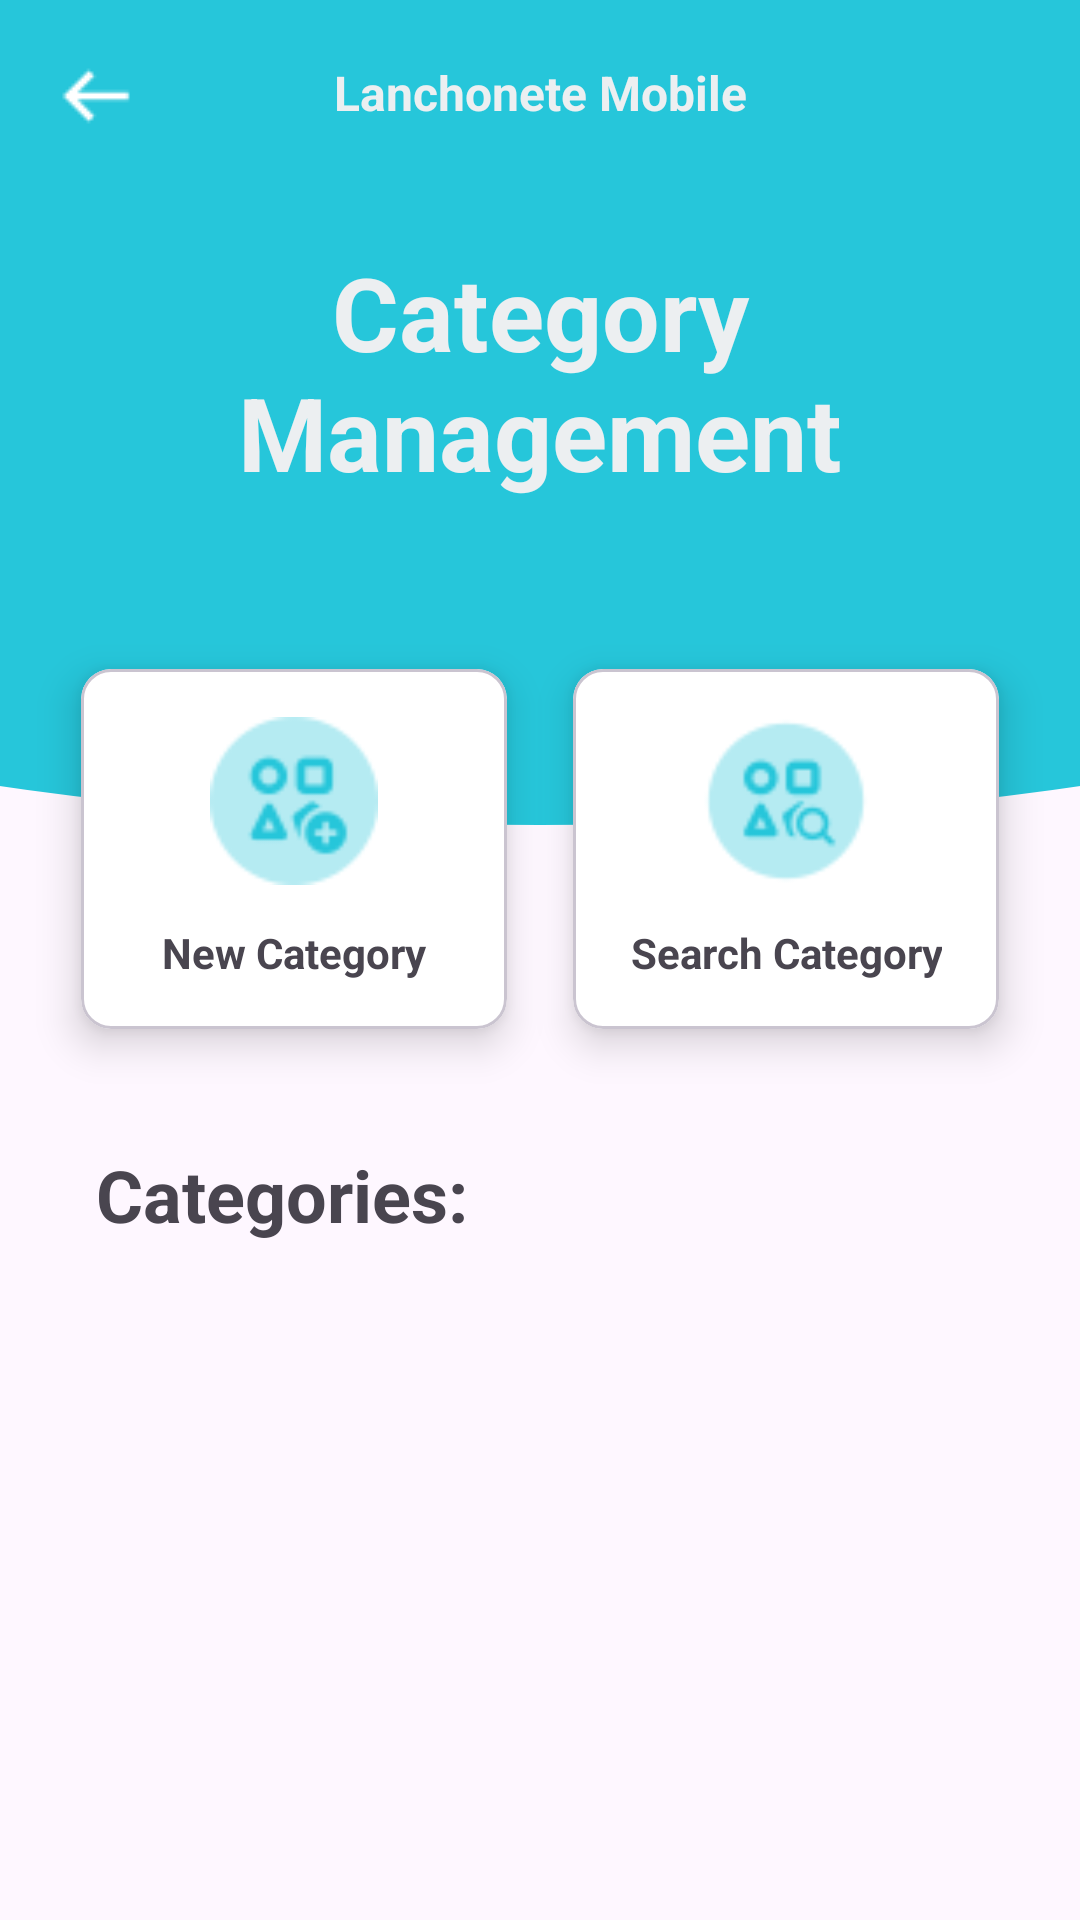

Where icons sit on this 1080px×1920px app screen, as (x1, y1, x2, y2):
add categoria: (210, 717, 378, 885)
Back: (62, 69, 130, 123)
buscar categoria: (708, 723, 864, 879)
